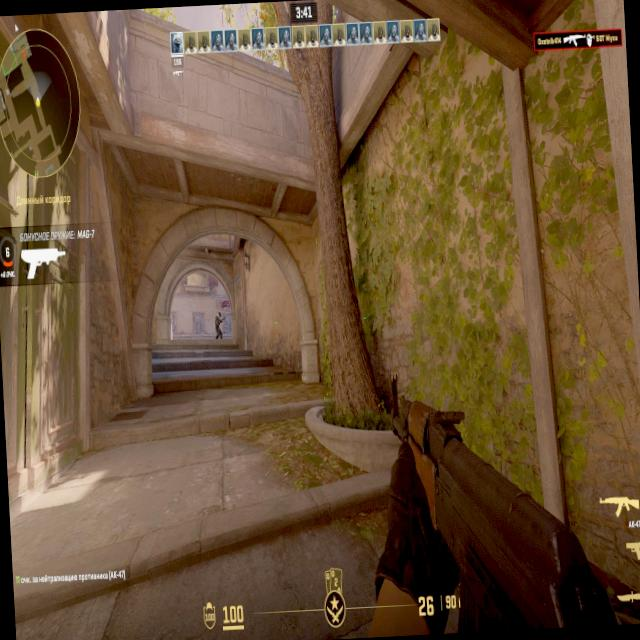CT: (212, 310, 222, 339)
CT_heat: (214, 315, 221, 322)
